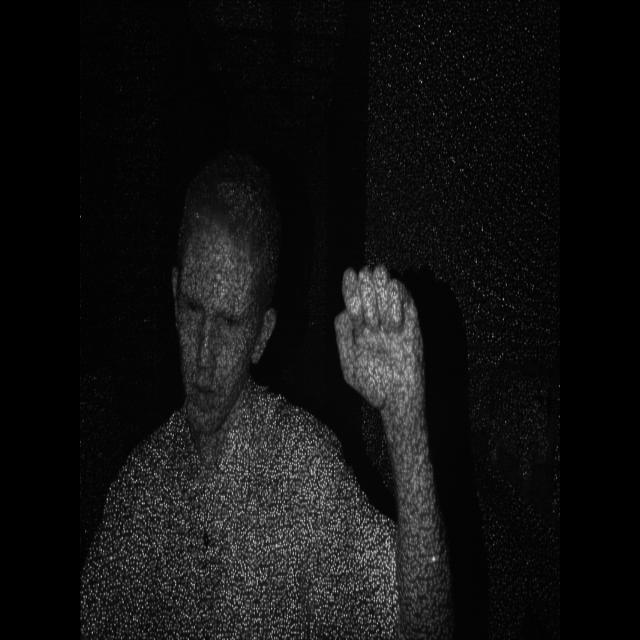M: (326, 252, 436, 410)
